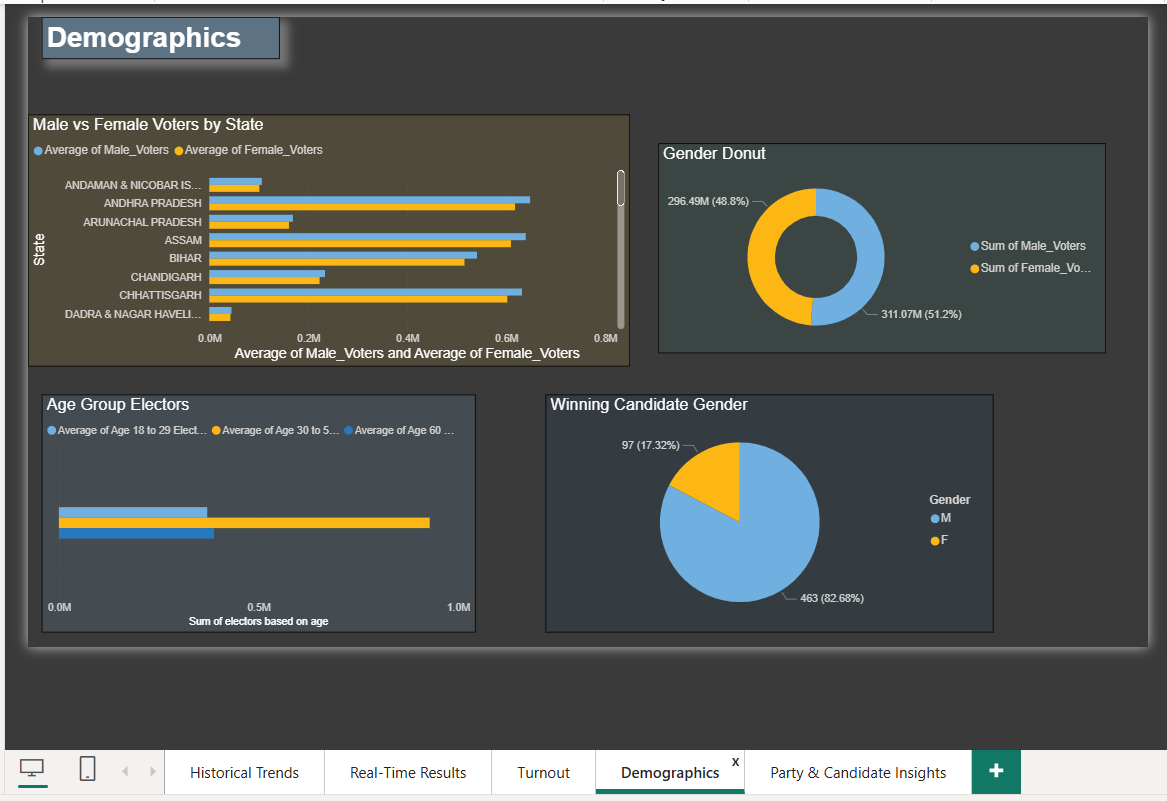

The page's visual inventory and layout, read from the dashboard file:
{"tool":"powerbi","page":{"name":"Demographics","canvas":[1280,720],"ordinal":3},"visuals":[{"type":"clusteredBarChart","title":" Male vs Female Voters by State","fields":{"Category":["Indian_Election_Dataset.State"],"Y":["Avg(Indian_Election_Dataset.Male_Voters)","Avg(Indian_Election_Dataset.Female_Voters)"]},"box":[0,112,688,288],"z":0},{"type":"textbox","box":[16,0,272,48],"z":1000},{"type":"donutChart","title":"Gender Donut","fields":{"Y":["Sum(Indian_Election_Dataset.Male_Voters)","Sum(Indian_Election_Dataset.Female_Voters)"]},"box":[720,144,512,240],"z":2000},{"type":"clusteredBarChart","title":"Age Group Electors","fields":{"Y":["Avg(Indian_Election_Dataset.Age_18_29_Electors)","Avg(Indian_Election_Dataset.Age_30_59_Electors)","Avg(Indian_Election_Dataset.Age_60_Plus_Electors)"]},"box":[16,432,496,272],"z":3000},{"type":"pieChart","title":"Winning Candidate Gender","fields":{"Category":["Indian_Election_Dataset.Gender"],"Y":["CountNonNull(Indian_Election_Dataset.Gender)"]},"box":[592,432,512,272],"z":4000}]}

Visuals, with their boxes on the page's 1280x720 design canvas (x1, y1, x2, y2). These are canvas units, not pixel positions in the 1167x801 screenshot, which may show the page scaled, cropped or inside an application window:
" Male vs Female Voters by State" clusteredBarChart: box=[0, 112, 688, 400]
textbox: box=[16, 0, 288, 48]
"Gender Donut" donutChart: box=[720, 144, 1232, 384]
"Age Group Electors" clusteredBarChart: box=[16, 432, 512, 704]
"Winning Candidate Gender" pieChart: box=[592, 432, 1104, 704]
